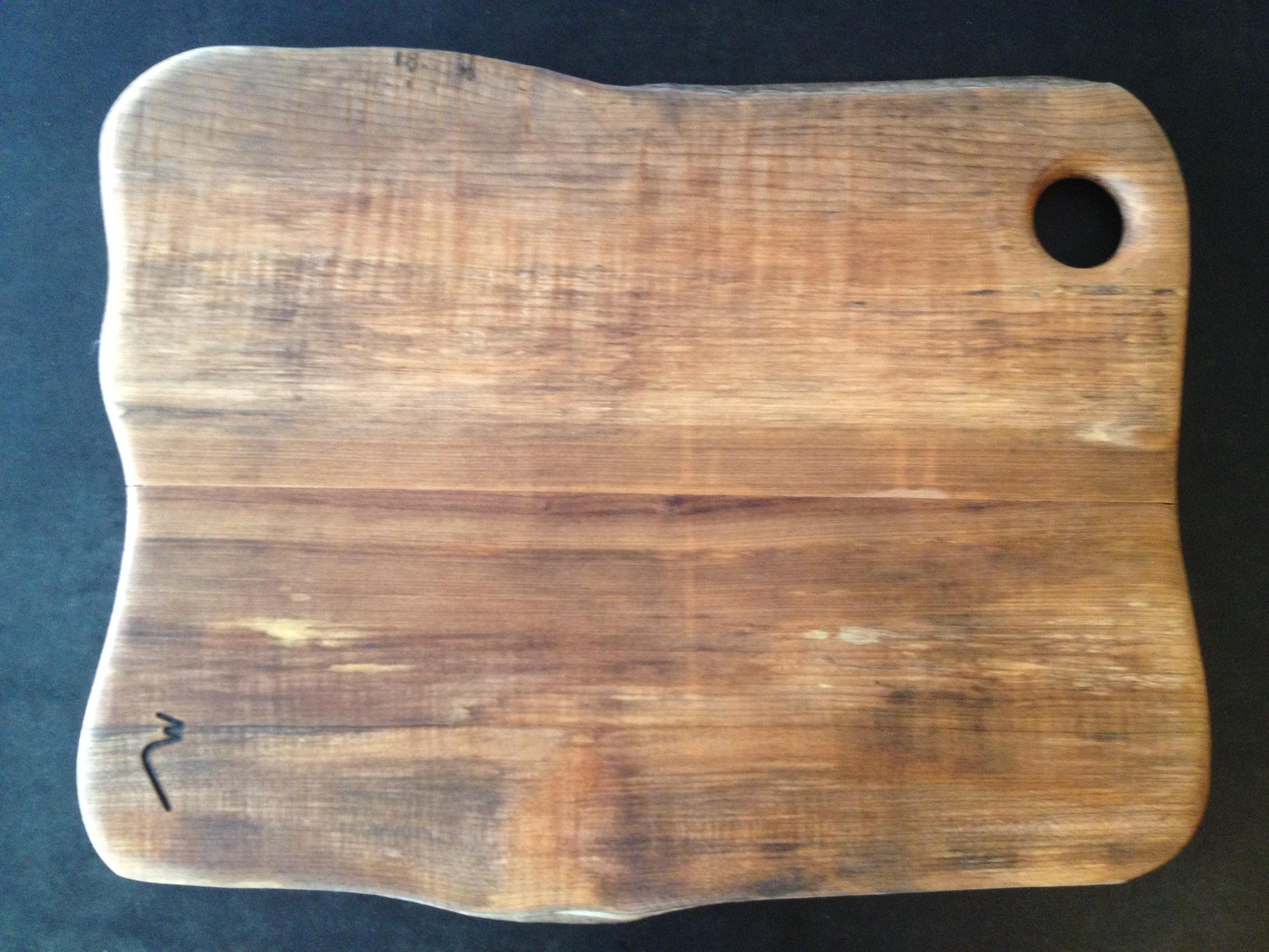gloved_hand: (37, 24, 1196, 921)
